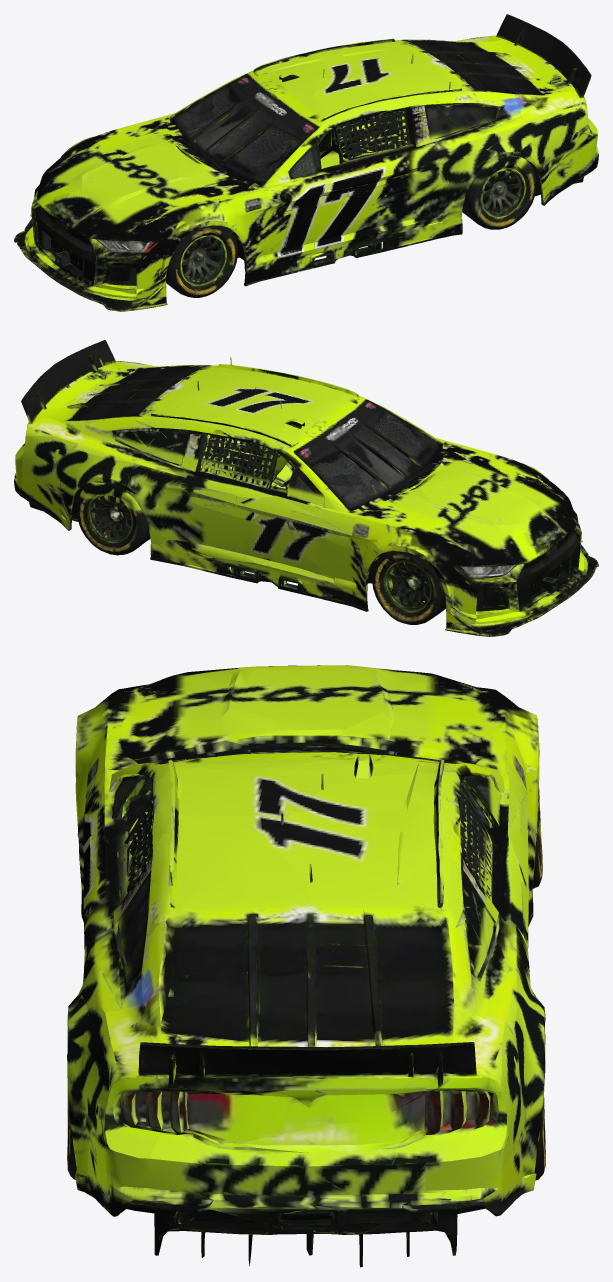
The model's file is car-17-modern.glb.
The picture shows the model from 3 angles, top to bottom: view 1: azimuth 30°, elevation 25°; view 2: azimuth 150°, elevation 25°; view 3: azimuth 270°, elevation 25°; orthographic projection. The views are drawn at different scales.
Parts seen in each view (by area): view 1: Mesh_0; view 2: Mesh_0; view 3: Mesh_0.
Boxes of the visible parts, x1,y1,x2,y2 form: Mesh_0: (14,14,598,311); Mesh_0: (14,340,598,636); Mesh_0: (67,665,545,1267).
Bounding box in the file's own units: 1.9 × 0.5033 × 0.7624.
1 material, 1 textured.
